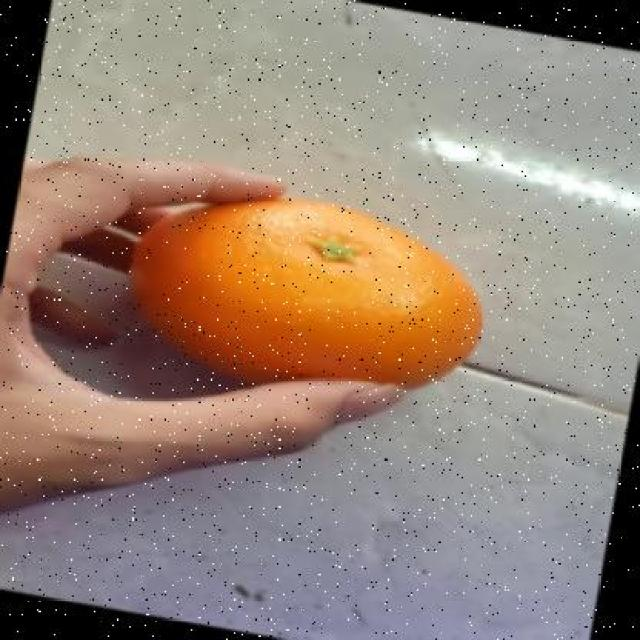Orange: (128, 194, 483, 389)
